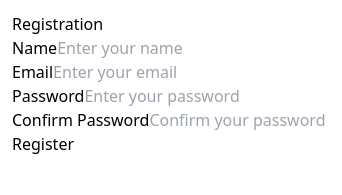
React Forms › RegistrationForm › validates email format
In the field labelled "Email": point(169, 72) [53,60,284,84], type "invalid-email"
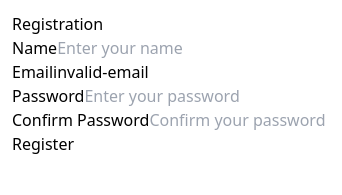
Leave the field labelled "Email", box [53,60,284,84]
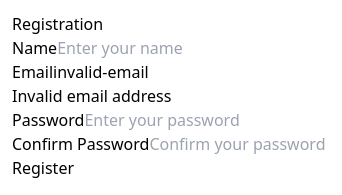
Now the text "Invalid email address" is shown, box [12,85,171,107]
